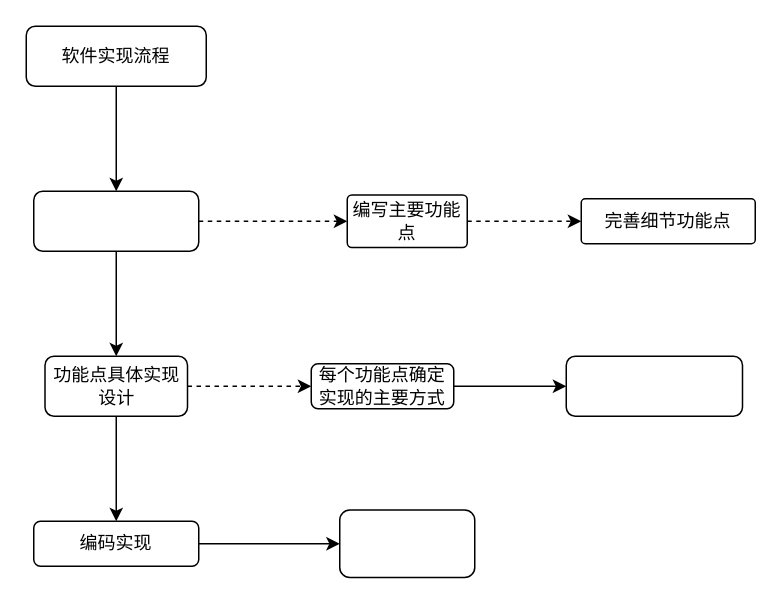
The diagram is 782 pixels wide and 605 high, and some of its shapes have lost their labels. The box of each missing label's shape, as (x1, y1, x2, y2) in pixels:
实现时间预估: (565, 355, 742, 416)
编写功能点: (32, 190, 199, 251)
记录实现的方式: (338, 508, 475, 578)
